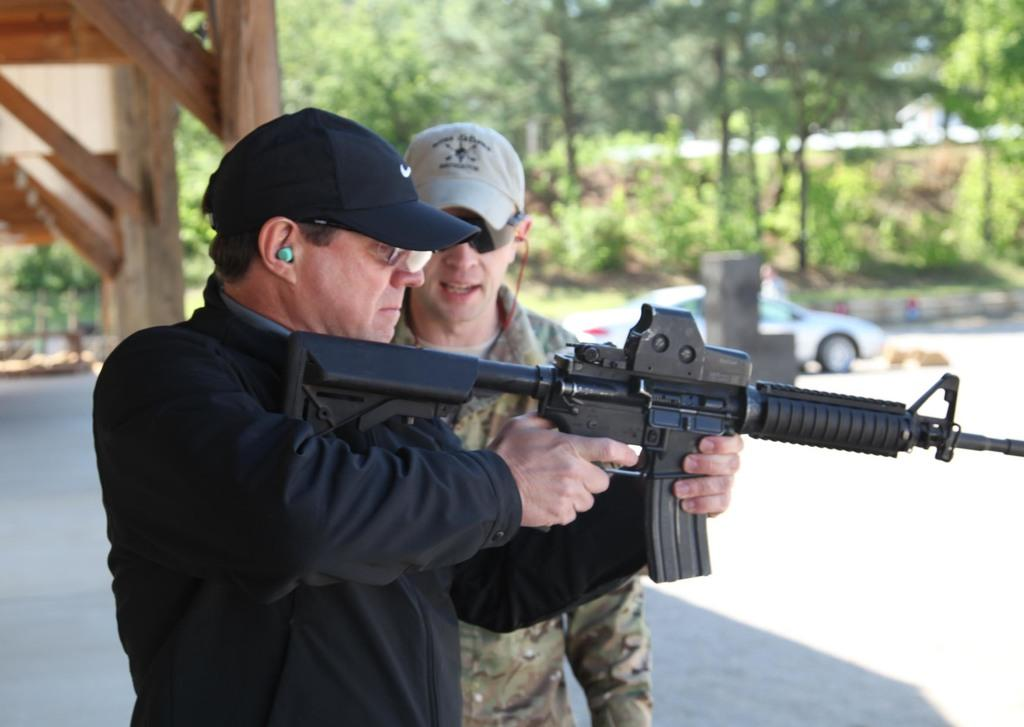Hat: (205, 106, 483, 236), (403, 117, 523, 228)
